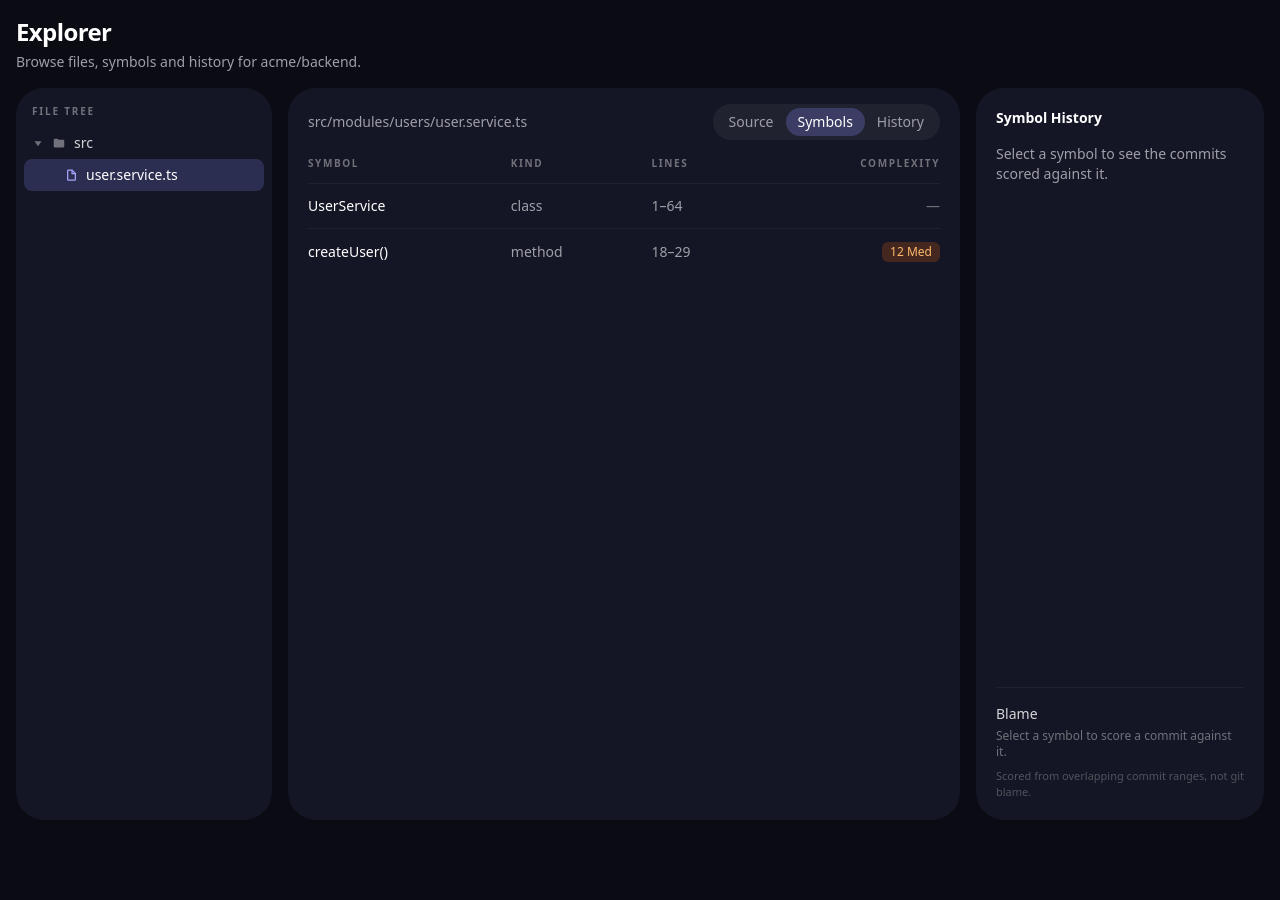
Test case: CodeExplorerPage › switches to the source tab
What coordinates should you click on to do the following:
click the button "Source"
I would click on:
 (751, 122)
Its box is left=717, top=108, right=786, bottom=136.
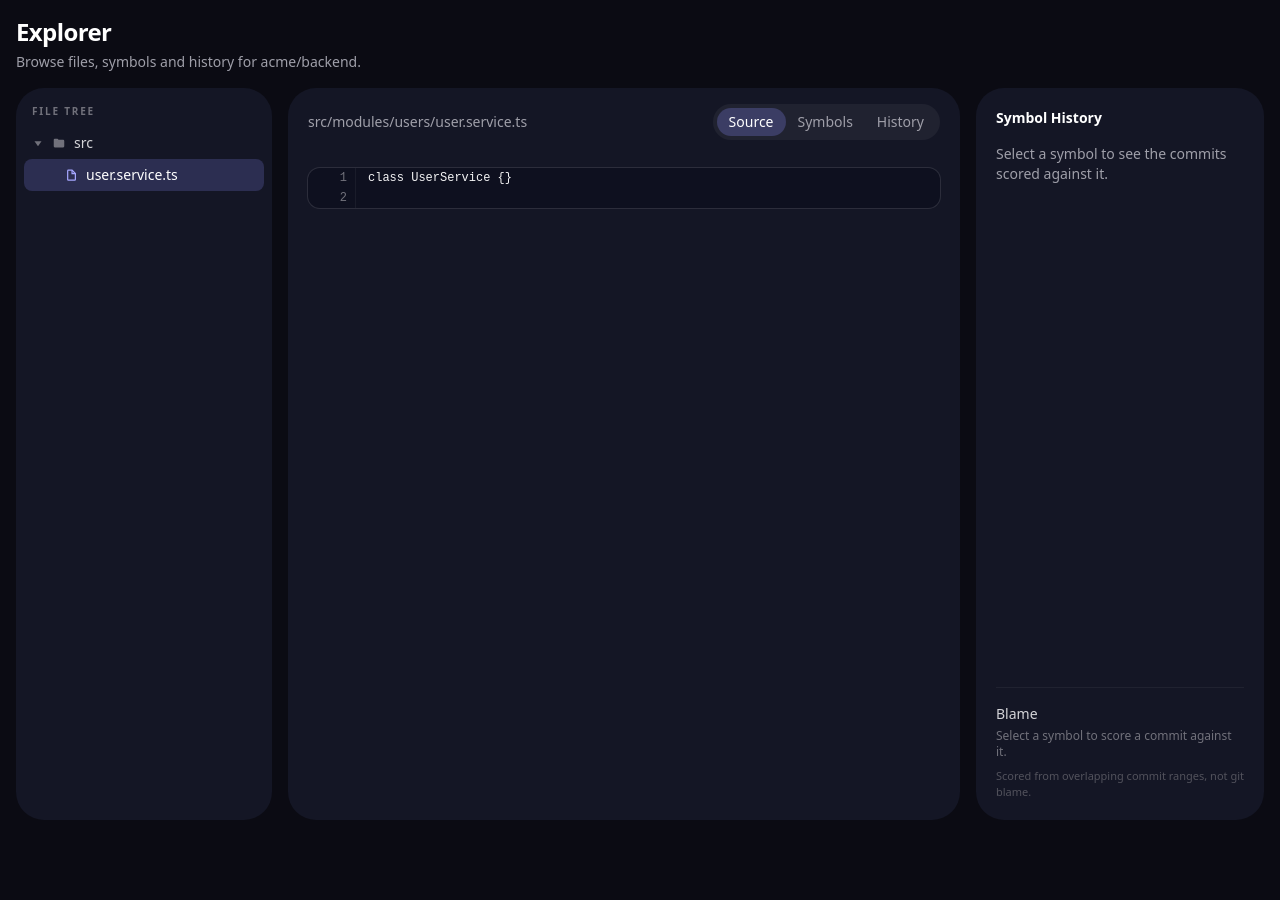
Result: the text "class UserService {}" is shown at left=356, top=168, right=524, bottom=188
